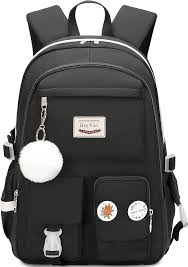bag: (3, 4, 186, 265)
